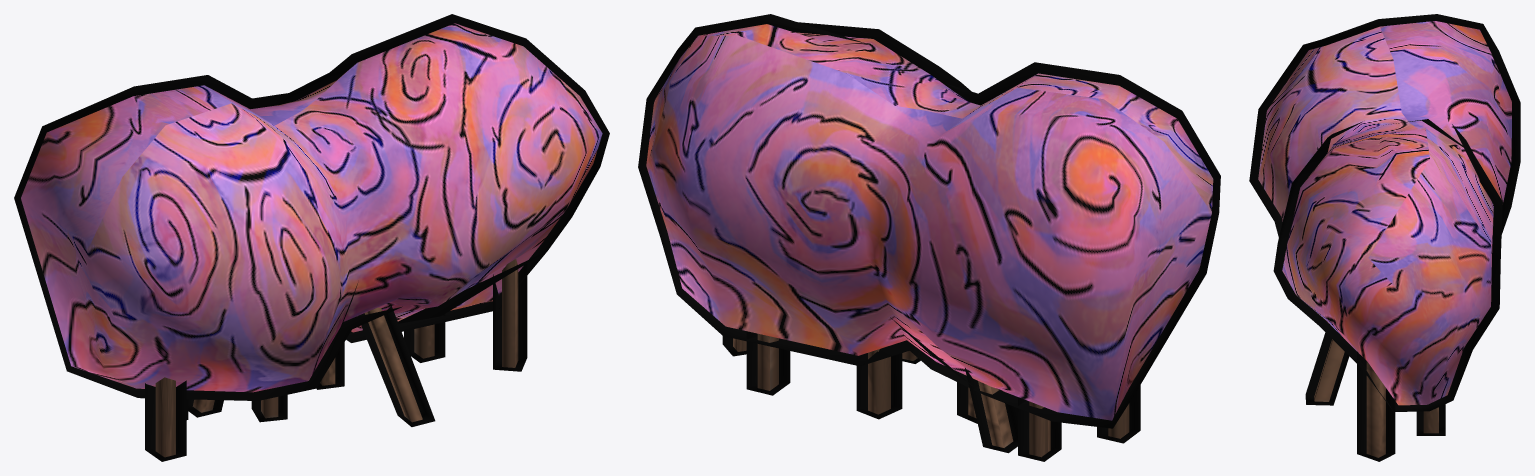
Rendered from s0_Bush_03__1__01.glb.
3 views of the same model, side by side, from view 1: azimuth 30°, elevation 25°; view 2: azimuth 150°, elevation 25°; view 3: azimuth 270°, elevation 25° (orthographic). The views are drawn at different scales.
Visible parts, largest first — view 1: node_Bush_03 (1); view 2: node_Bush_03 (1); view 3: node_Bush_03 (1).
Part boxes in pixels (bbox=[...]): node_Bush_03 (1): bbox=[14, 14, 609, 461]; node_Bush_03 (1): bbox=[638, 14, 1220, 461]; node_Bush_03 (1): bbox=[1249, 14, 1520, 461].
Size of what is drawn, in the model's own units: 2.73 by 1.68 by 1.4.
3 materials, 2 textured.
